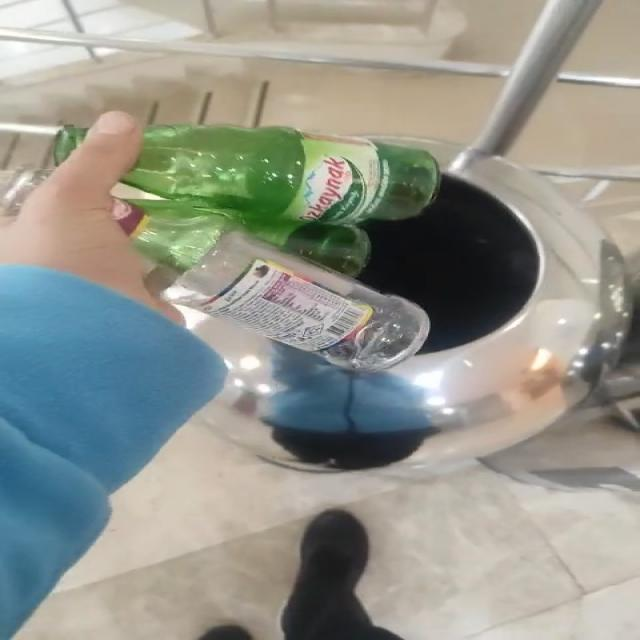glass: (113, 126, 440, 371)
